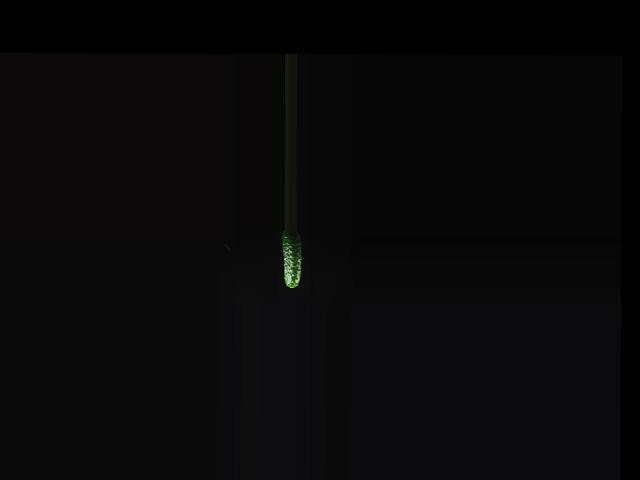cucumber: (280, 229, 301, 288)
